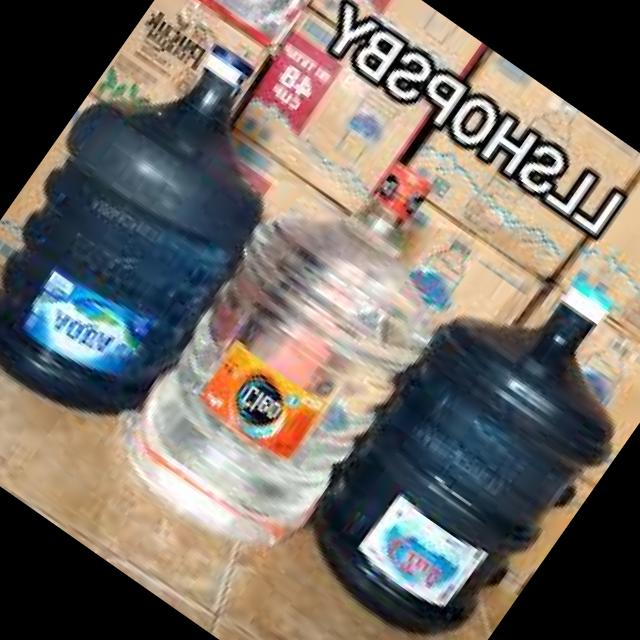Galon: (91, 106, 508, 580), (0, 0, 343, 449), (279, 219, 640, 640)
